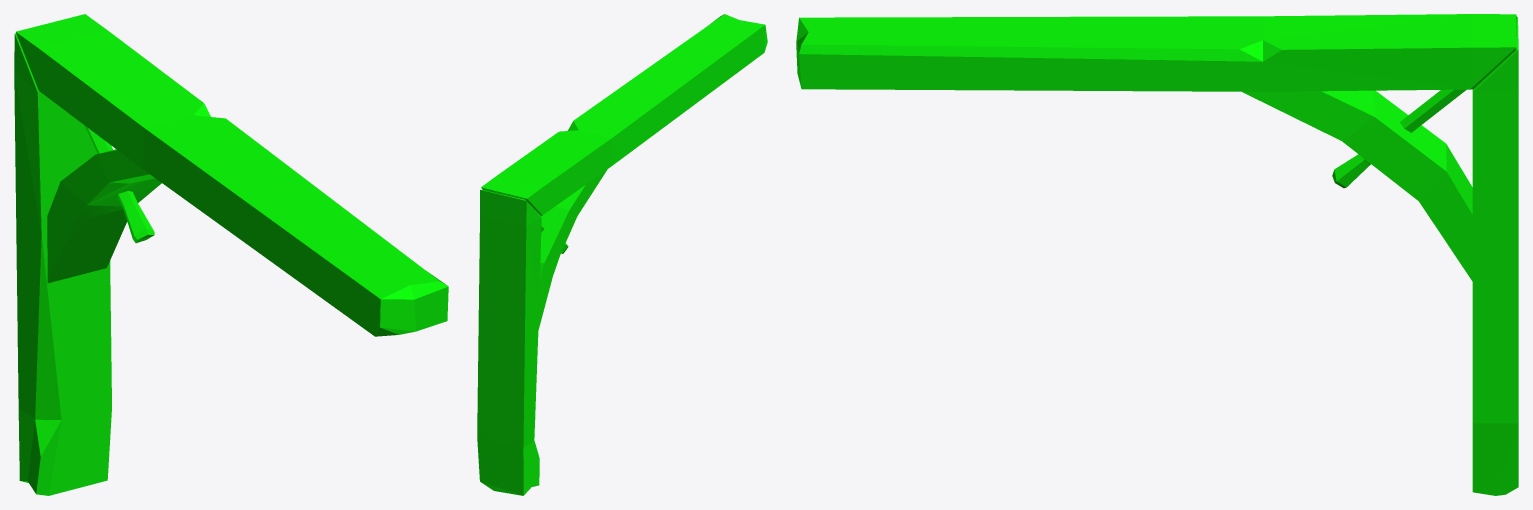
File: SM_Signboard_Holder_A_Fantasy.fbx
3 renders of one model, left to right at view 1: azimuth 30°, elevation 25°; view 2: azimuth 150°, elevation 25°; view 3: azimuth 270°, elevation 25°, orthographic. The views are drawn at different scales.
Parts seen in each view (by area): view 1: singboard-holder-a-fantasy; view 2: singboard-holder-a-fantasy; view 3: singboard-holder-a-fantasy.
Part boxes in pixels (x1,y1,x2,y2): singboard-holder-a-fantasy: [14, 14, 448, 495]; singboard-holder-a-fantasy: [477, 14, 767, 495]; singboard-holder-a-fantasy: [796, 14, 1518, 495].
Bounding box in the file's own units: 0.2244 × 1.31 × 1.91.
